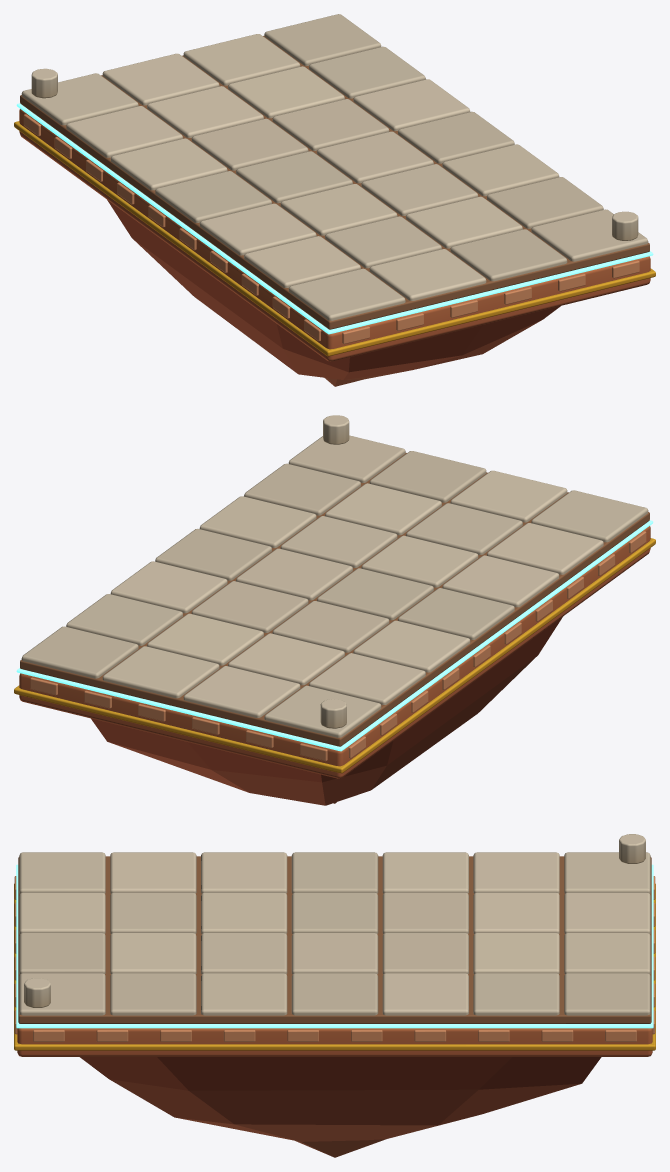
File: PLAT_Ruin_L.glb
The picture shows the model from 3 angles, top to bottom: view 1: azimuth 30°, elevation 25°; view 2: azimuth 150°, elevation 25°; view 3: azimuth 270°, elevation 25°; orthographic projection. The views are drawn at different scales.
Visible parts, largest first — view 1: Stone, EdgeGlow; view 2: Stone, EdgeGlow; view 3: Stone, EdgeGlow.
Part boxes in pixels (x1,y1,x2,y2): Stone: (14, 14, 655, 386); EdgeGlow: (16, 103, 653, 334); Stone: (14, 415, 655, 805); EdgeGlow: (16, 520, 653, 751); Stone: (14, 834, 655, 1157); EdgeGlow: (16, 864, 653, 1028).
Bounding box in the file's own units: 6.1 × 4.28 × 10.1.
